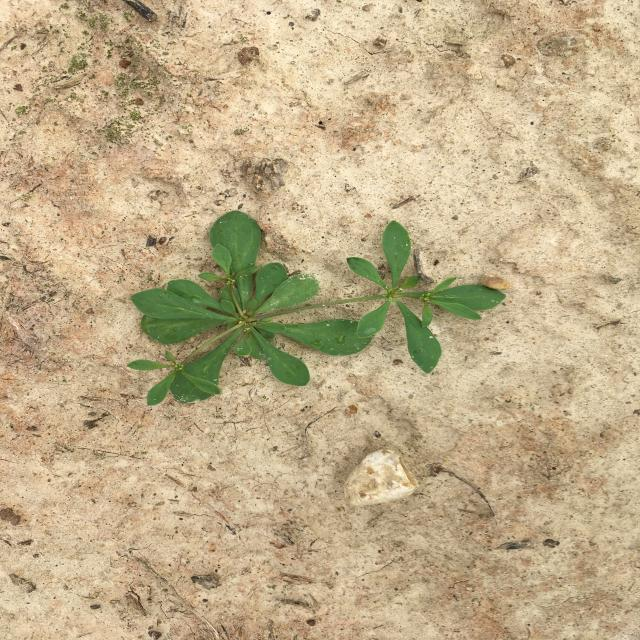Carpetweed: (126, 210, 507, 407)
